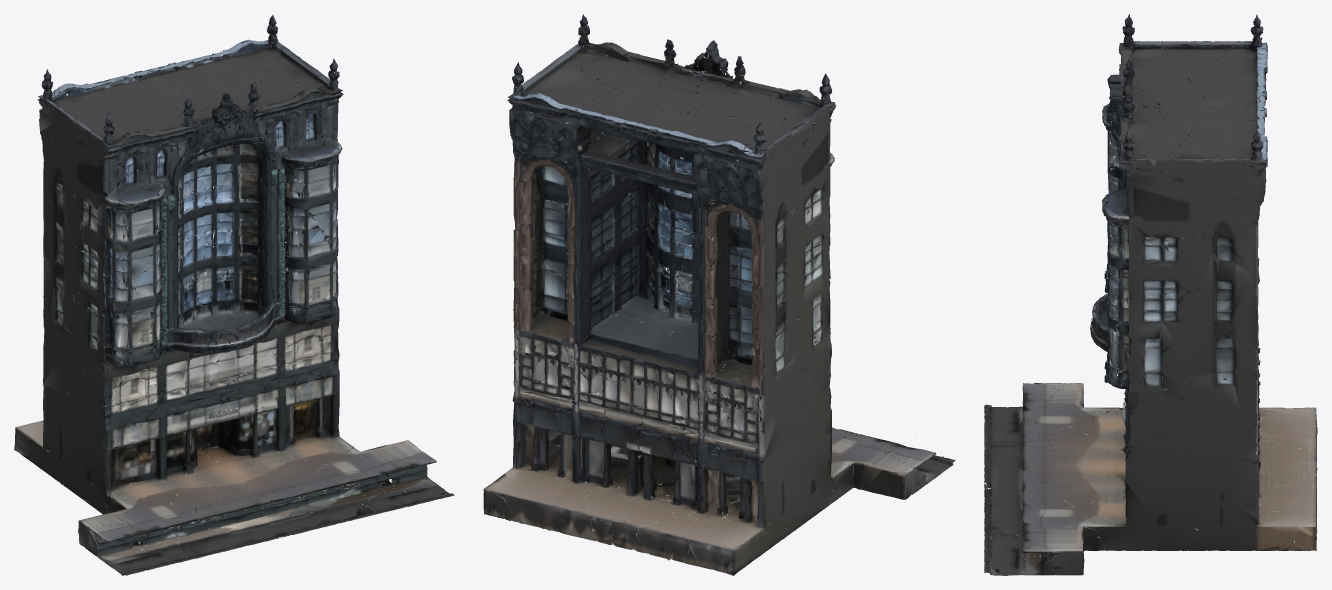
Rendered from big_bld4.fbx.
The picture shows the model from 3 angles, left to right: view 1: azimuth 30°, elevation 25°; view 2: azimuth 150°, elevation 25°; view 3: azimuth 270°, elevation 25°; orthographic projection. The views are drawn at different scales.
Parts seen in each view (by area): view 1: big_bld4; view 2: big_bld4; view 3: big_bld4.
Part boxes in pixels (x1,y1,x2,y2): big_bld4: (14, 14, 454, 575); big_bld4: (483, 14, 955, 575); big_bld4: (984, 14, 1317, 575).
Size of the model in its own units: 1.64 by 1.9 by 1.37.
Materials: 1 (1 with a texture image).
